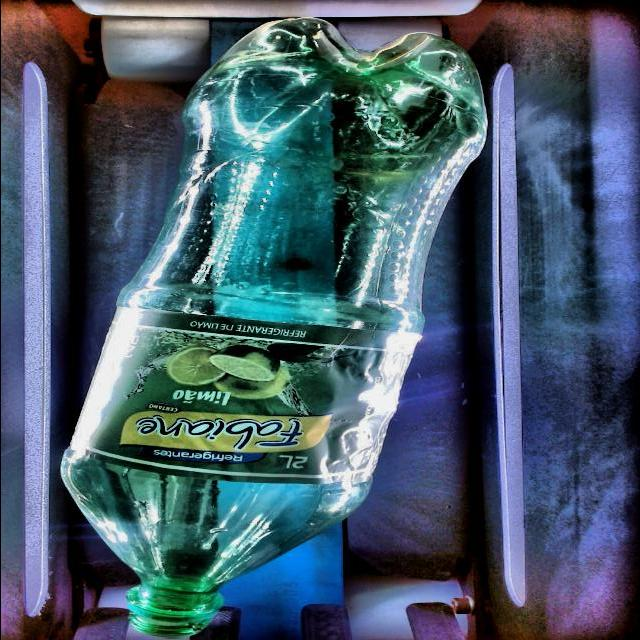bottom: (122, 20, 485, 325)
label: (71, 307, 418, 484)
neck: (61, 450, 369, 638)
